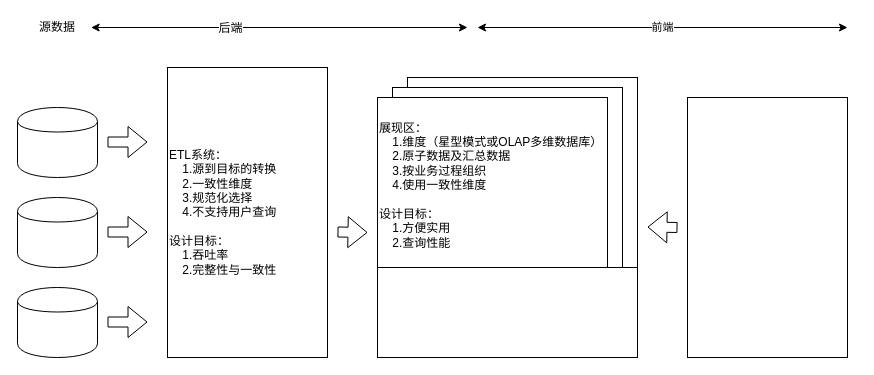
This 874x375 diagram has some shape labels left out. Here are the shapes that lost their labels. From the top down, the centre of each, then its label:
At point (767, 227): "BI应用： 1.随意查询 2.标准报表 3.分析应用 4.数据挖掘及模型".
At point (507, 312): "企业数据仓库总线架构".
